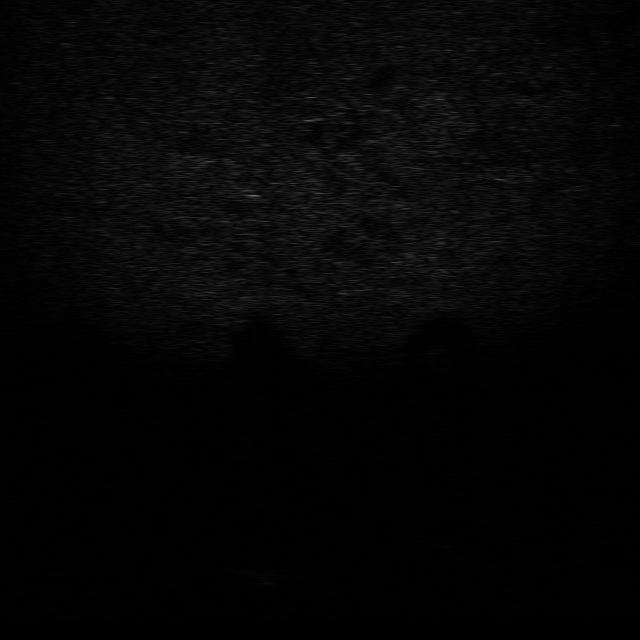human body: (221, 564, 295, 590)
metal bucket: (226, 414, 272, 441)
tyre: (419, 524, 485, 569)
